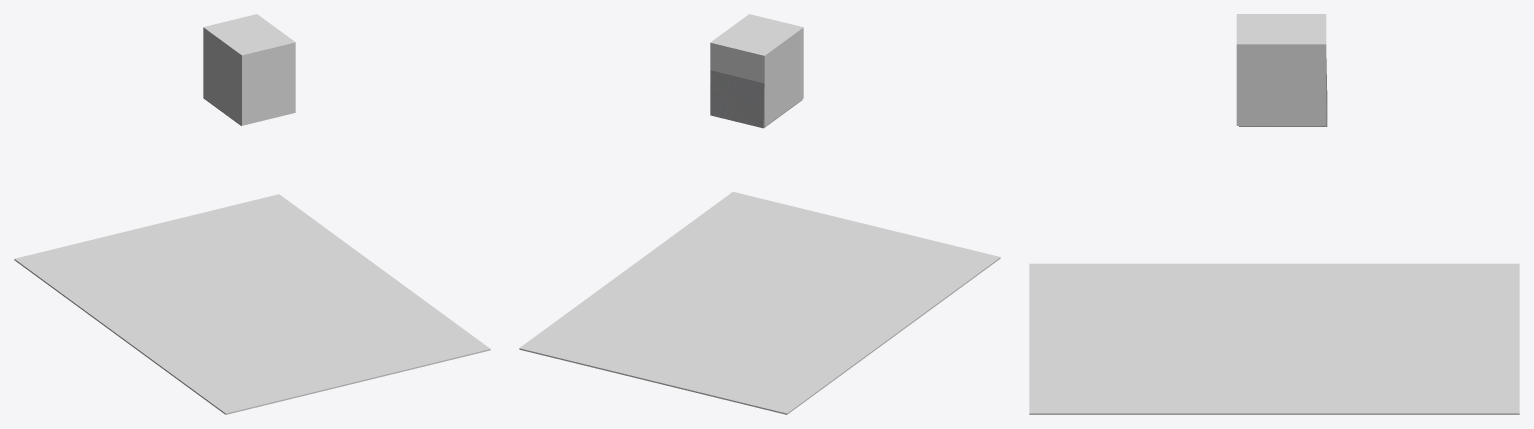
The model's file is simple15.glb.
3 renders of one model, left to right at view 1: azimuth 30°, elevation 25°; view 2: azimuth 150°, elevation 25°; view 3: azimuth 270°, elevation 25°, orthographic. The views are drawn at different scales.
Visible parts, largest first — view 1: Coll_Gound.001, Cube.001; view 2: Coll_Gound.001, Cube.001, Cube; view 3: Coll_Gound.001, Cube.001.
Boxes of the visible parts, box(x1,y1,x2,y2) form: Coll_Gound.001: box(14, 194, 490, 414); Cube.001: box(203, 14, 295, 125); Coll_Gound.001: box(519, 192, 1000, 414); Cube.001: box(710, 14, 803, 126); Cube: box(710, 70, 801, 128); Coll_Gound.001: box(1029, 263, 1519, 414); Cube.001: box(1236, 14, 1326, 125).
Size of the model in its own units: 10 by 9.68 by 13.83.
1 material, 1 textured.
